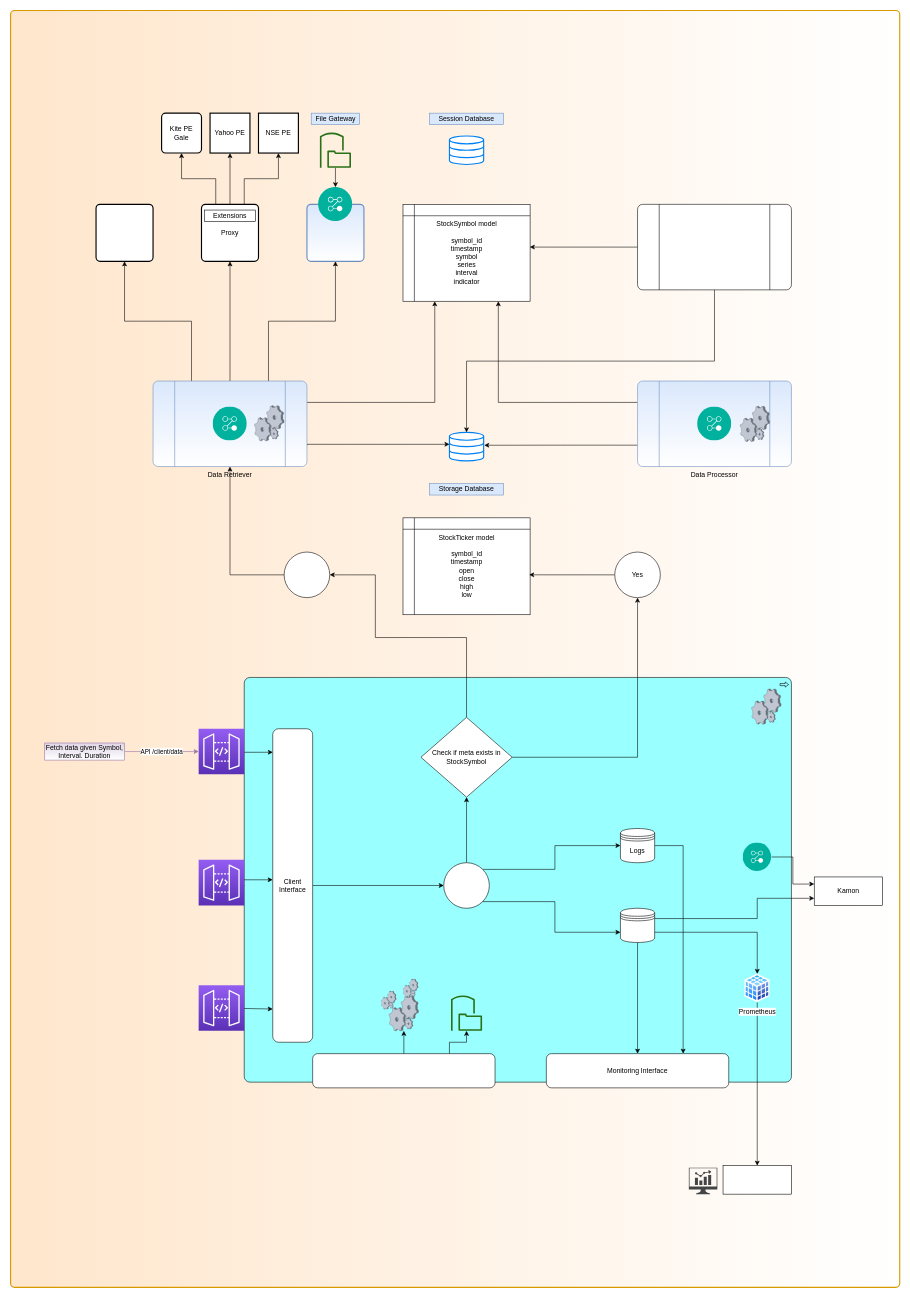
This 910x1297 diagram has some shape labels left out. Each missing label, with the box of its shape:
Admin Interface: (312, 1053, 495, 1088)
Cassandra: (449, 135, 484, 165)
CSV: (306, 203, 364, 262)
Data Inspector: (637, 204, 791, 290)
Engine: (443, 862, 489, 908)
Faux: (95, 203, 153, 262)
Grafana: (722, 1165, 791, 1194)
Metrics: (620, 908, 655, 942)
No: (284, 551, 330, 598)
TimescaleDB: (449, 431, 484, 461)
